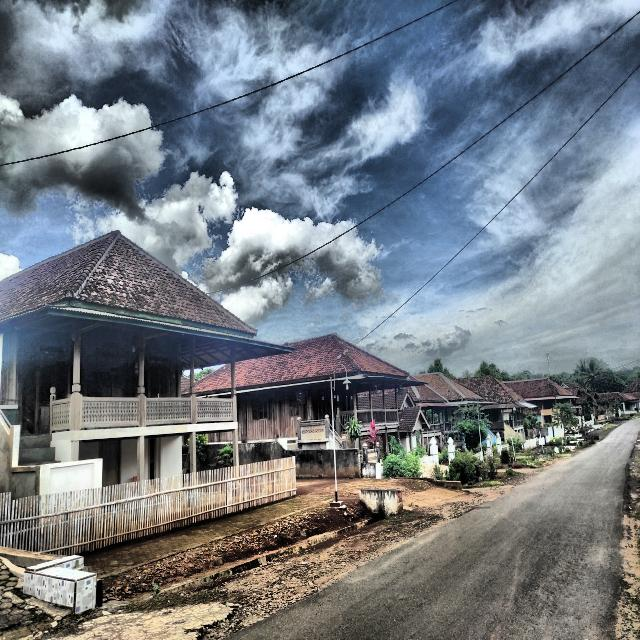column: (72, 334, 81, 392), (137, 341, 145, 393), (137, 435, 144, 482), (189, 348, 195, 393), (232, 429, 239, 466), (190, 432, 196, 473), (231, 361, 236, 395), (369, 391, 373, 426), (395, 389, 399, 423), (382, 390, 386, 423), (354, 392, 357, 429)
door: (101, 440, 119, 487)
ornamen: (52, 397, 233, 430), (340, 409, 398, 428)
roof: (0, 230, 297, 371), (181, 334, 428, 398)
wall: (0, 333, 181, 438), (79, 435, 183, 487)
